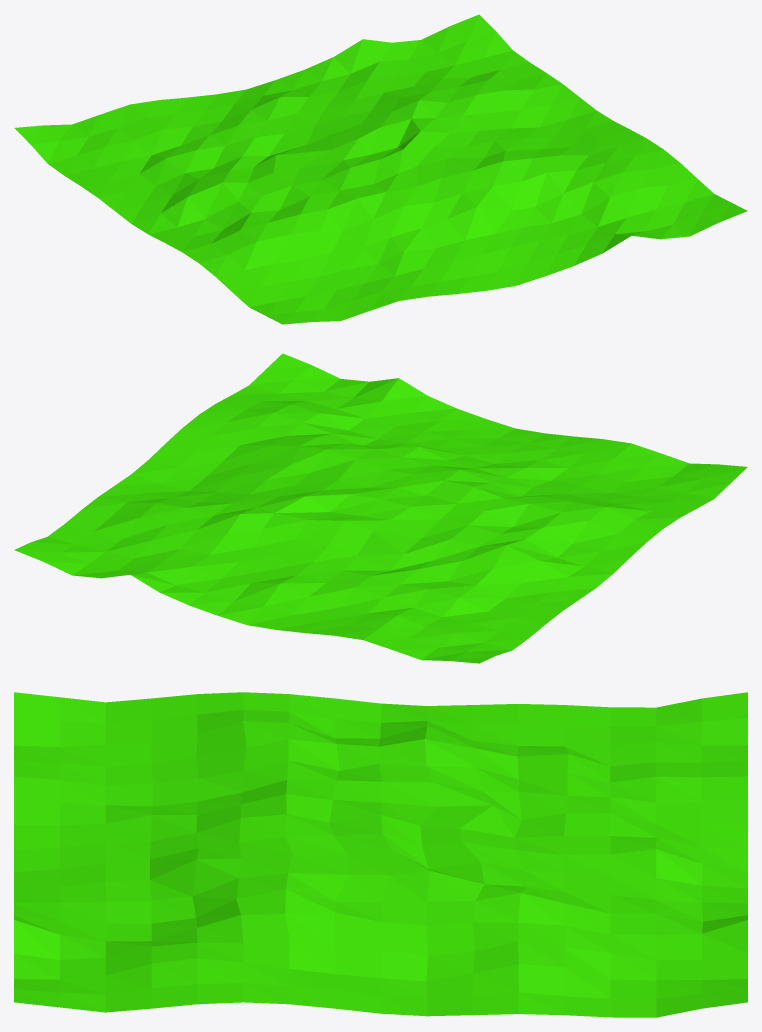
The model's file is groundTwo.fbx.
3 views of the same model, one above another, from view 1: azimuth 30°, elevation 25°; view 2: azimuth 150°, elevation 25°; view 3: azimuth 270°, elevation 25° (orthographic). The views are drawn at different scales.
Visible parts, largest first — view 1: Plane.002; view 2: Plane.002; view 3: Plane.002.
Boxes of the visible parts, x1=… form: Plane.002: x1=14, y1=14, x2=747, y2=324; Plane.002: x1=14, y1=353, x2=747, y2=663; Plane.002: x1=14, y1=692, x2=747, y2=1017.
Bounding box in the file's own units: 2000 × 125 × 2000.
